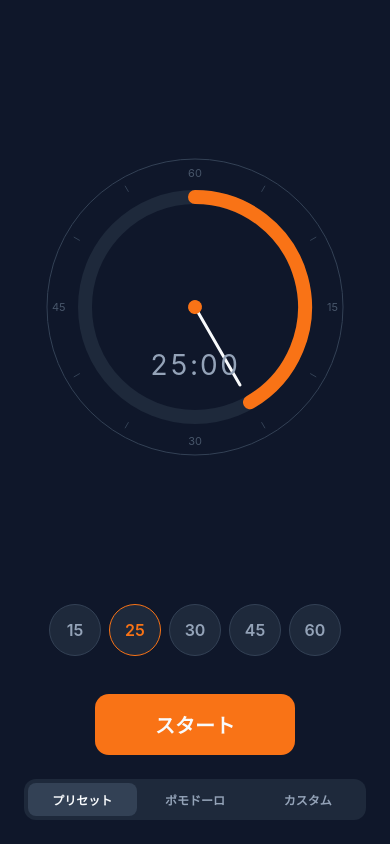
Test case: TimerScreen › スタートボタンをタップすると一時停止ボタンに変わる
Click the text "スタート" at (195, 724), box top-left (155, 710), bottom-right (235, 739)
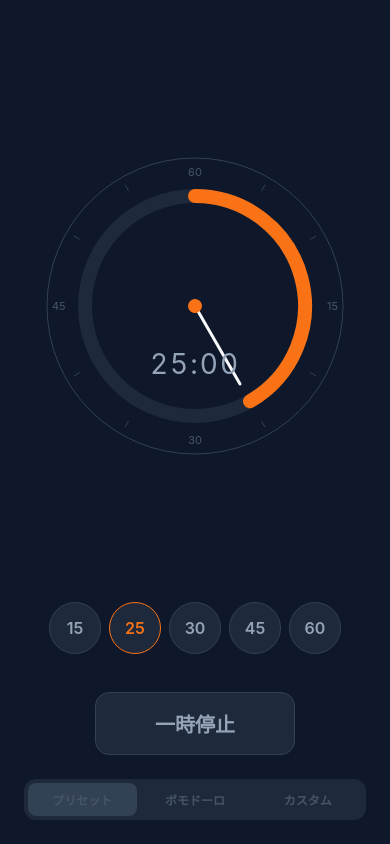
Now the text "一時停止" is shown, box top-left (155, 709), bottom-right (235, 738)
